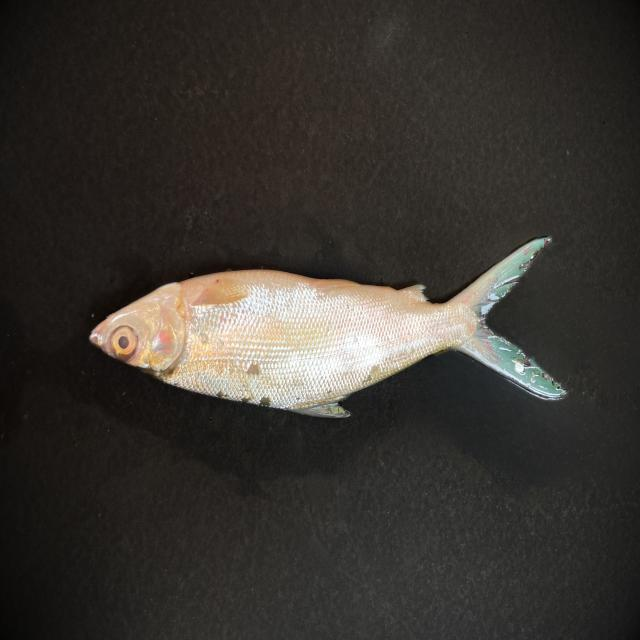625 g: (88, 236, 568, 419)
